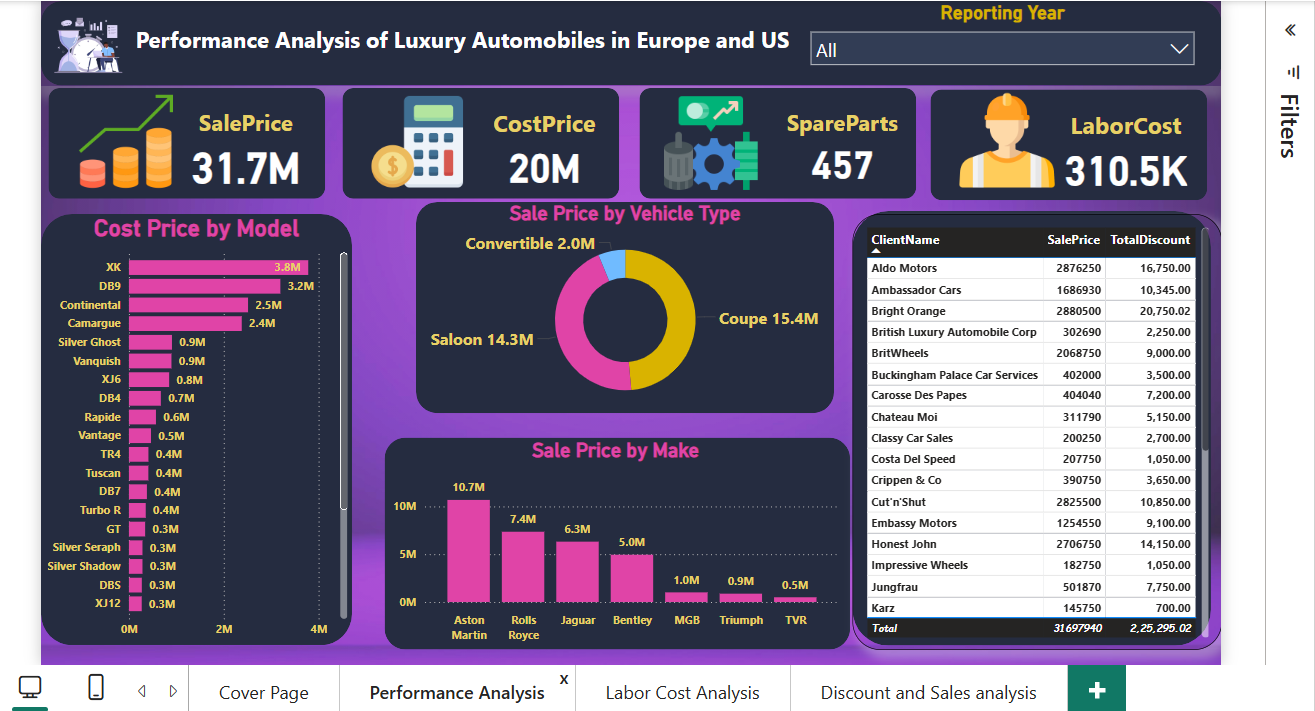

The page's visual inventory and layout, read from the dashboard file:
{"tool":"powerbi","page":{"name":"Performance Analysis","canvas":[1280,720],"ordinal":1},"visuals":[{"type":"shape","box":[407.2,217.9,453.3,229],"z":0},{"type":"shape","box":[0,230.6,337.2,467.6],"z":2000},{"type":"shape","box":[371.7,473.3,505,230],"z":3000},{"type":"shape","box":[879.7,226.9,388.7,471.3],"z":4000},{"type":"shape","box":[0,0,1280,91.7],"z":5000},{"type":"textbox","box":[51.4,20,810,50],"z":6000},{"type":"slicer","title":"Reporting Year","fields":{"Values":["BaseData.ReportingYear"]},"box":[823.9,0,435.8,89.1],"z":7000},{"type":"shape","box":[8.3,95,300,120],"z":8000},{"type":"shape","box":[326.7,95,300,120],"z":9000},{"type":"shape","box":[648.3,95,300,120],"z":10000},{"type":"shape","box":[965,96.7,300,120],"z":11000},{"type":"image","box":[21.3,96.6,142,112.2],"z":12000},{"type":"image","box":[338,98,139.2,109.3],"z":13000},{"type":"image","box":[991.2,89.5,113.6,123.6],"z":14000},{"type":"image","box":[660.4,92.3,132.1,122.1],"z":15000},{"type":"image","box":[2.9,0,95.7,95.7],"z":16000},{"type":"cardVisual","title":"Total Sales Price","fields":{"Data":["Sum(BaseData.SalePrice)"]},"box":[136.8,97,171.8,116.1],"z":17000},{"type":"cardVisual","title":"Total Labor Cost","fields":{"Data":["Sum(BaseData.LaborCost)"]},"box":[1092.7,98.6,167,117.7],"z":18000},{"type":"cardVisual","title":"Total Spare Parts","fields":{"Data":["CountNonNull(BaseData.SpareParts)"]},"box":[788.9,97,160.7,116.1],"z":19000},{"type":"cardVisual","title":"Total Cost Price","fields":{"Data":["Sum(BaseData.CostPrice)"]},"box":[467.6,97,155.9,120.9],"z":20000},{"type":"donutChart","title":"Sale Price by Vehicle Type","fields":{"Category":["BaseData.VehicleType"],"Y":["Sum(BaseData.SalePrice)"]},"box":[407.2,217.9,453.3,230.6],"z":21000},{"type":"barChart","title":"Cost Price by Model","fields":{"Category":["BaseData.Model"],"Y":["Sum(BaseData.CostPrice)"]},"box":[0,230.6,337.2,467.6],"z":22000},{"type":"clusteredColumnChart","title":"Sale Price by Make","fields":{"Y":["Sum(BaseData.SalePrice)"],"Category":["BaseData.Make"]},"box":[375.4,475.6,494.7,227.5],"z":23000},{"type":"tableEx","fields":{"Values":["BaseData.ClientName","Sum(BaseData.SalePrice)","Sum(BaseData.TotalDiscount)"]},"box":[879.6,230.6,400.8,472.4],"z":25000}]}

Visuals, with their boxes on the page's 1280x720 design canvas (x1, y1, x2, y2). These are canvas units, not pixel positions in the 1315x711 screenshot, which may show the page scaled, cropped or inside an application window:
shape: select_region(407, 218, 860, 447)
shape: select_region(0, 231, 337, 698)
shape: select_region(372, 473, 877, 703)
shape: select_region(880, 227, 1268, 698)
shape: select_region(0, 0, 1280, 92)
textbox: select_region(51, 20, 861, 70)
"Reporting Year" slicer: select_region(824, 0, 1260, 89)
shape: select_region(8, 95, 308, 215)
shape: select_region(327, 95, 627, 215)
shape: select_region(648, 95, 948, 215)
shape: select_region(965, 97, 1265, 217)
image: select_region(21, 97, 163, 209)
image: select_region(338, 98, 477, 207)
image: select_region(991, 90, 1105, 213)
image: select_region(660, 92, 792, 214)
image: select_region(3, 0, 99, 96)
"Total Sales Price" cardVisual: select_region(137, 97, 309, 213)
"Total Labor Cost" cardVisual: select_region(1093, 99, 1260, 216)
"Total Spare Parts" cardVisual: select_region(789, 97, 950, 213)
"Total Cost Price" cardVisual: select_region(468, 97, 624, 218)
"Sale Price by Vehicle Type" donutChart: select_region(407, 218, 860, 448)
"Cost Price by Model" barChart: select_region(0, 231, 337, 698)
"Sale Price by Make" clusteredColumnChart: select_region(375, 476, 870, 703)
tableEx - BaseData.ClientName x Sum(BaseData.SalePrice): select_region(880, 231, 1280, 703)
